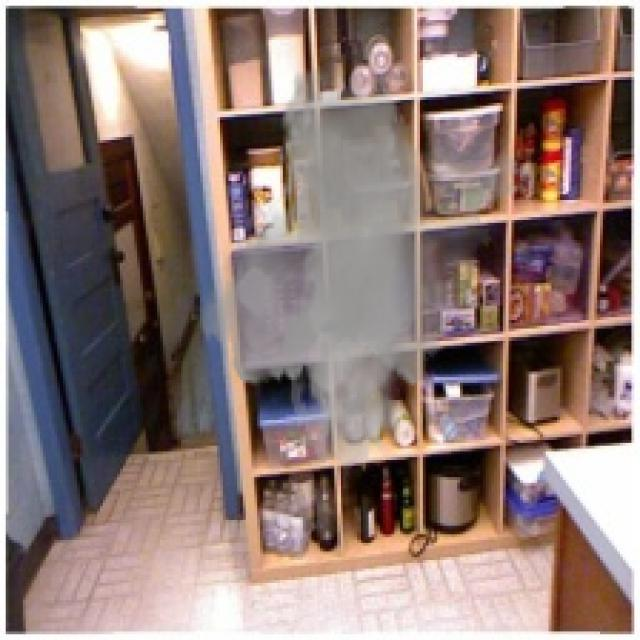smoke: (188, 66, 532, 468)
